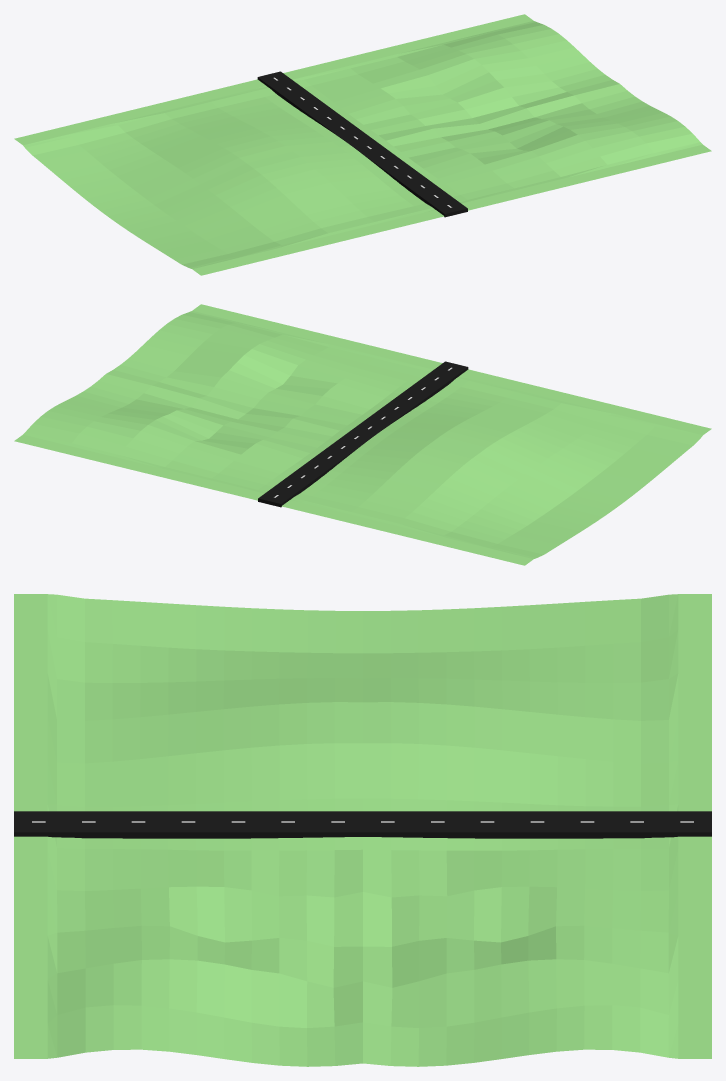
File: road.glb
The picture shows the model from 3 angles, top to bottom: view 1: azimuth 30°, elevation 25°; view 2: azimuth 150°, elevation 25°; view 3: azimuth 270°, elevation 25°; orthographic projection. The views are drawn at different scales.
Visible parts, largest first — view 1: grass, road; view 2: grass, road; view 3: grass, road.
Part boxes in pixels (x1,y1,x2,y2): grass: (14,14,711,275); road: (257,71,467,217); grass: (14,304,711,565); road: (258,361,468,507); grass: (14,594,711,1066); road: (14,811,711,838).
Bounding box in the file's own units: 129 × 4.71 × 81.49.
